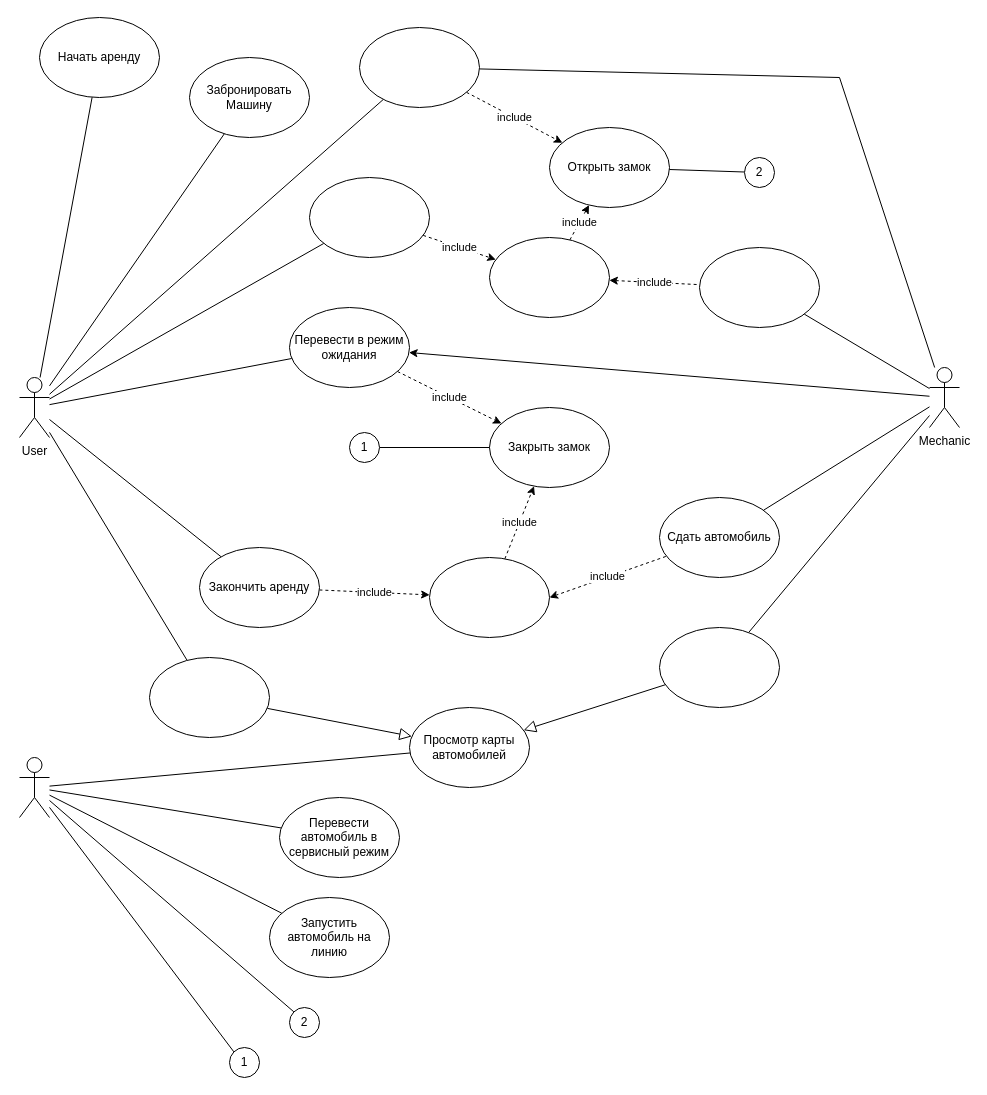
Image size: 987x1095. Some labels were removed from this diagram. Each missing label, with the centre of its shape:
Admin: the point at 34,787
Выйти из режима ожидания: the point at 419,67
Закончить сессию использования: the point at 489,597
Начать осмотр: the point at 369,217
Начать сессию использования: the point at 549,277
Начать ТО: the point at 759,287
Просмотр карты авто в сервисном режиме: the point at 719,667
Просмотр карты доступных автомобилей: the point at 209,697
